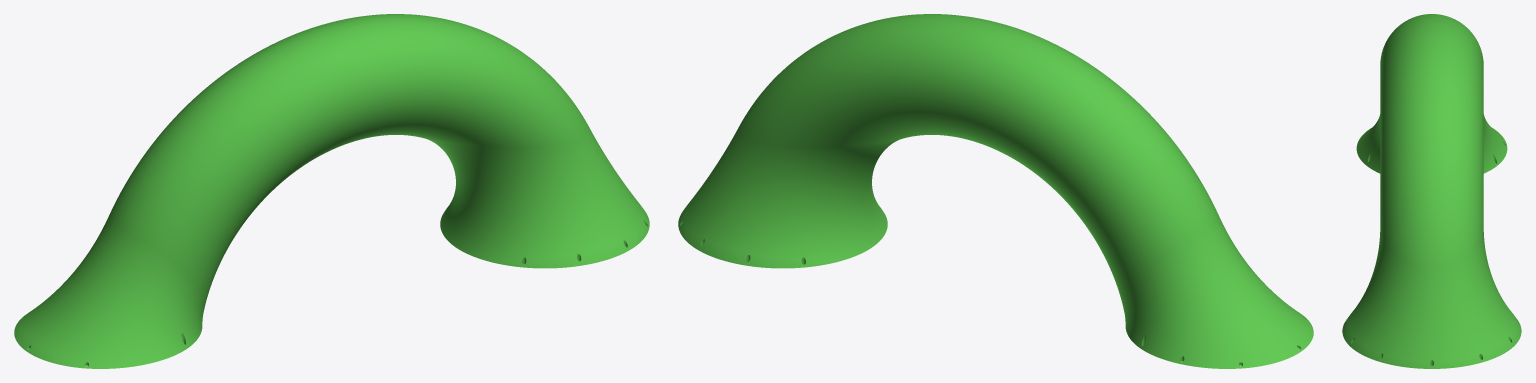
The model's file is hold_phone_big.glb.
3 renders of one model, left to right at view 1: azimuth 30°, elevation 25°; view 2: azimuth 150°, elevation 25°; view 3: azimuth 270°, elevation 25°, orthographic. The views are drawn at different scales.
Visible parts, largest first — view 1: Object_2; view 2: Object_2; view 3: Object_2.
Boxes of the visible parts, x1,y1,x2,y2 form: Object_2: (14, 14, 649, 368); Object_2: (678, 14, 1313, 368); Object_2: (1342, 14, 1521, 368).
Size of the model in its own units: 1164 by 450 by 346.
